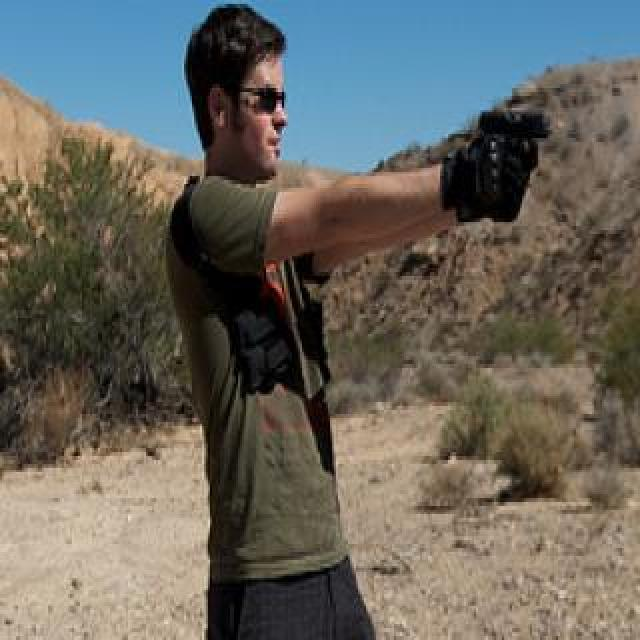Guns: (468, 90, 558, 169)
